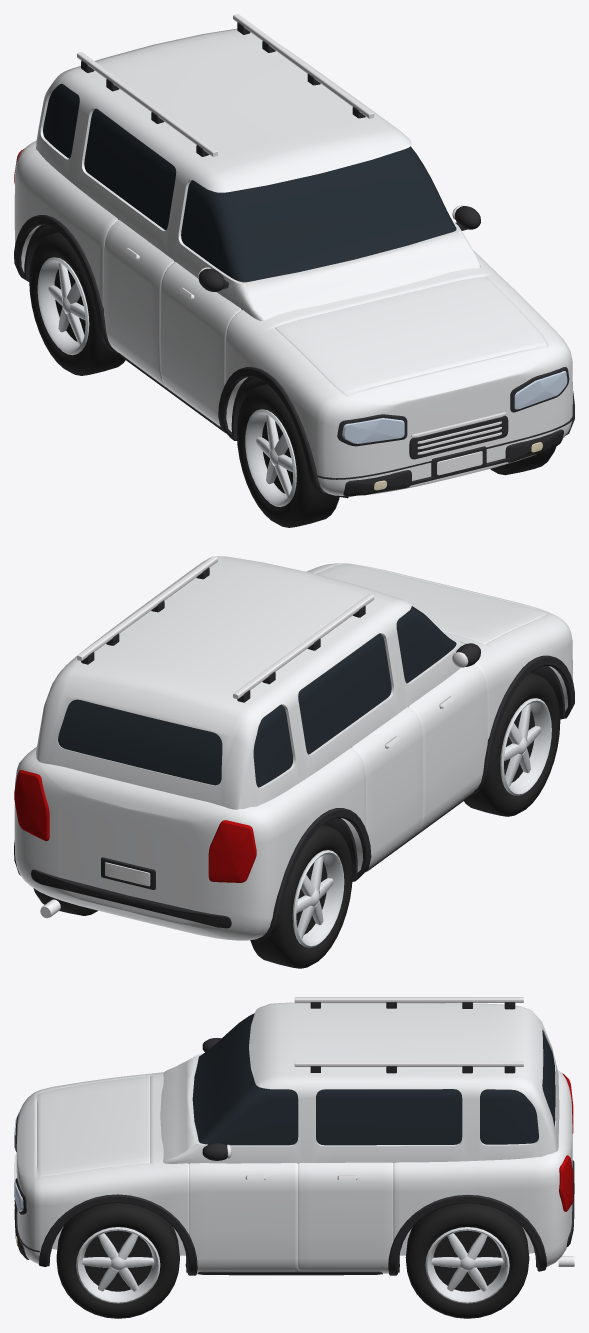
Rendered from suv.glb.
3 renders of one model, top to bottom at view 1: azimuth 30°, elevation 25°; view 2: azimuth 150°, elevation 25°; view 3: azimuth 270°, elevation 25°, orthographic. The views are drawn at different scales.
Parts seen in each view (by area): view 1: body, glass, trim, wheel-front-right, wheel-back-right, lights, wheel-front-left; view 2: body, glass, trim, wheel-back-right, wheel-front-right, lights; view 3: body, glass, wheel-front-left, wheel-back-left, trim, lights.
Boxes of the visible parts, x1,y1,x2,y2 form: body: [14, 28, 572, 495]; glass: [43, 83, 456, 282]; trim: [14, 14, 574, 498]; wheel-front-right: [236, 384, 339, 527]; wheel-back-right: [29, 232, 125, 375]; lights: [14, 148, 567, 490]; wheel-front-left: [490, 446, 555, 475]; body: [14, 556, 572, 940]; glass: [58, 606, 456, 787]; trim: [14, 556, 574, 942]; wheel-back-right: [250, 825, 352, 968]; wheel-front-right: [464, 673, 560, 816]; lights: [14, 770, 256, 882]; body: [16, 1002, 572, 1273]; glass: [192, 1013, 555, 1145]; wheel-front-left: [56, 1203, 179, 1318]; wheel-back-left: [405, 1203, 529, 1318]; trim: [14, 997, 574, 1275]; lights: [14, 1073, 573, 1246].
Size of the model in its own units: 1.52 by 1.49 by 3.18.
